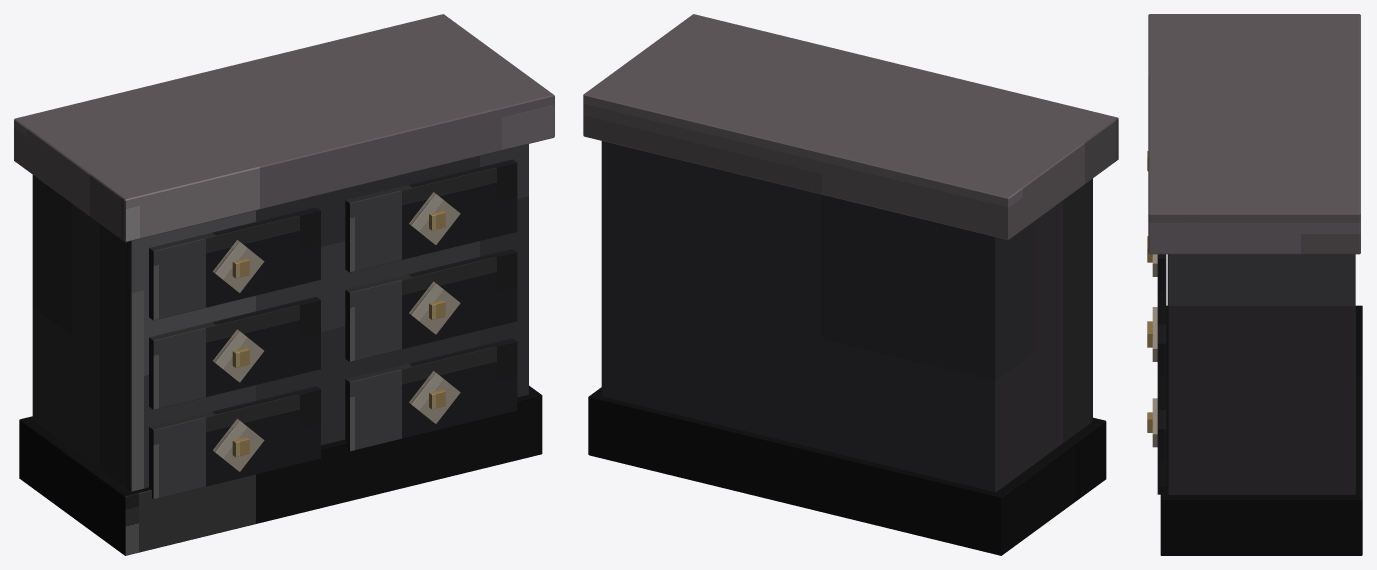
File: gothic_dresser_ivory.glb
3 renders of one model, left to right at view 1: azimuth 30°, elevation 25°; view 2: azimuth 150°, elevation 25°; view 3: azimuth 270°, elevation 25°, orthographic. The views are drawn at different scales.
Visible parts, largest first — view 1: DresserTop, DresserBody, DresserPlinth, Drawer_0_1, Drawer_1_1, Drawer_2_1, Drawer_1_0, Drawer_0_0, Drawer_2_0, DrawerDiamond_0_1, DrawerDiamond_1_1, DrawerDiamond_0_0 (+3 smaller); view 2: DresserBody, DresserTop, DresserPlinth; view 3: DresserTop, DresserBody, DresserPlinth, Drawer_1_1, Drawer_2_1, Drawer_0_1, DrawerDiamond_2_1, DrawerDiamond_1_1.
Part boxes in pixels (left/top/right/bottom): DresserTop: left=14, top=14, right=554, bottom=242; DresserBody: left=32, top=144, right=528, bottom=491; DresserPlinth: left=19, top=385, right=542, bottom=555; Drawer_0_1: left=345, top=159, right=517, bottom=272; Drawer_1_1: left=345, top=249, right=517, bottom=361; Drawer_2_1: left=345, top=338, right=517, bottom=451; Drawer_1_0: left=149, top=296, right=320, bottom=409; Drawer_0_0: left=149, top=207, right=320, bottom=320; Drawer_2_0: left=149, top=386, right=320, bottom=499; DrawerDiamond_0_1: left=409, top=192, right=460, bottom=244; DrawerDiamond_1_1: left=409, top=281, right=460, bottom=334; DrawerDiamond_0_0: left=213, top=240, right=264, bottom=292; DresserBody: left=601, top=141, right=1092, bottom=491; DresserTop: left=583, top=14, right=1118, bottom=239; DresserPlinth: left=588, top=387, right=1106, bottom=555; DresserTop: left=1148, top=14, right=1360, bottom=254; DresserBody: left=1167, top=254, right=1355, bottom=494; DresserPlinth: left=1160, top=305, right=1362, bottom=555; Drawer_1_1: left=1157, top=324, right=1166, bottom=409; Drawer_2_1: left=1157, top=409, right=1166, bottom=494; Drawer_0_1: left=1157, top=254, right=1166, bottom=324; DrawerDiamond_2_1: left=1152, top=398, right=1157, bottom=447; DrawerDiamond_1_1: left=1152, top=313, right=1157, bottom=361.
Size of the model in its own units: 1.36 by 1.09 by 0.618.
1 material, 1 textured.
